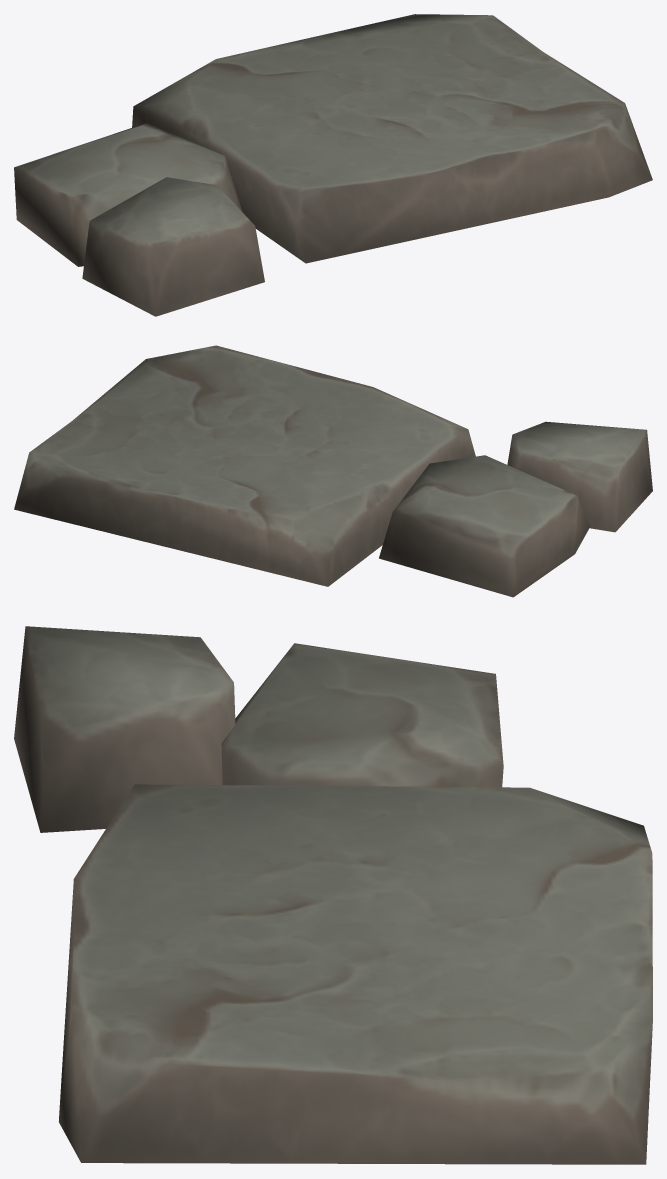
The model's file is SM_FW01_Floor_Tile_Group_02.fbx.
3 views of the same model, one above another, from view 1: azimuth 30°, elevation 25°; view 2: azimuth 150°, elevation 25°; view 3: azimuth 270°, elevation 25° (orthographic). The views are drawn at different scales.
Parts seen in each view (by area): view 1: SM_FW01_Floor_Tile_Group_02; view 2: SM_FW01_Floor_Tile_Group_02; view 3: SM_FW01_Floor_Tile_Group_02.
Part boxes in pixels (<box>): SM_FW01_Floor_Tile_Group_02: <box>14,14,652,316</box>; SM_FW01_Floor_Tile_Group_02: <box>14,345,652,597</box>; SM_FW01_Floor_Tile_Group_02: <box>14,626,652,1164</box>.
Bounding box in the file's own units: 1.03 × 0.1555 × 0.6468.
